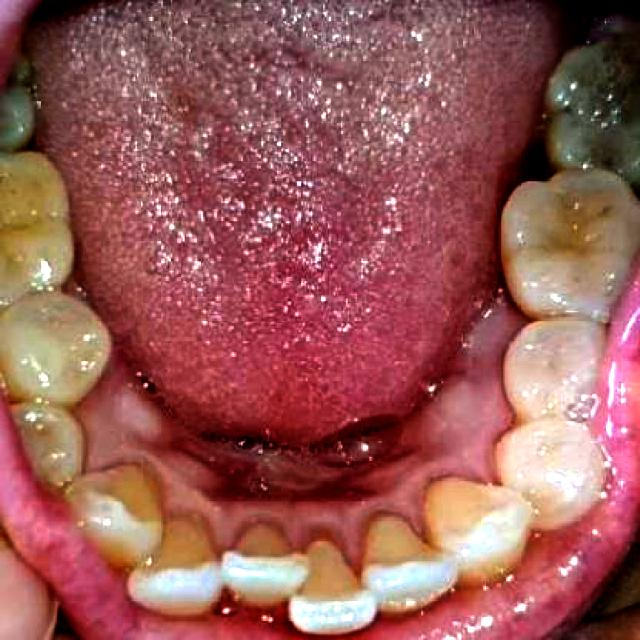Plaque: (567, 74, 612, 133), (581, 197, 621, 229)
